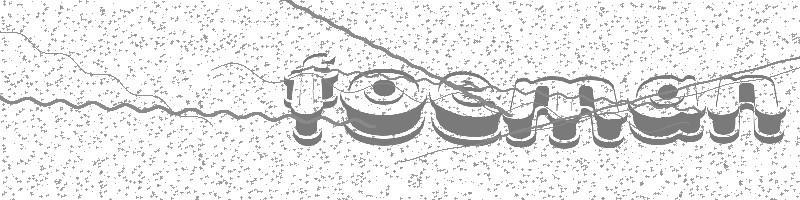a: (624, 66, 704, 151)
e: (431, 69, 507, 151)
f: (277, 42, 342, 148)
m: (505, 70, 632, 153)
n: (709, 59, 791, 155)
o: (341, 61, 427, 145)
